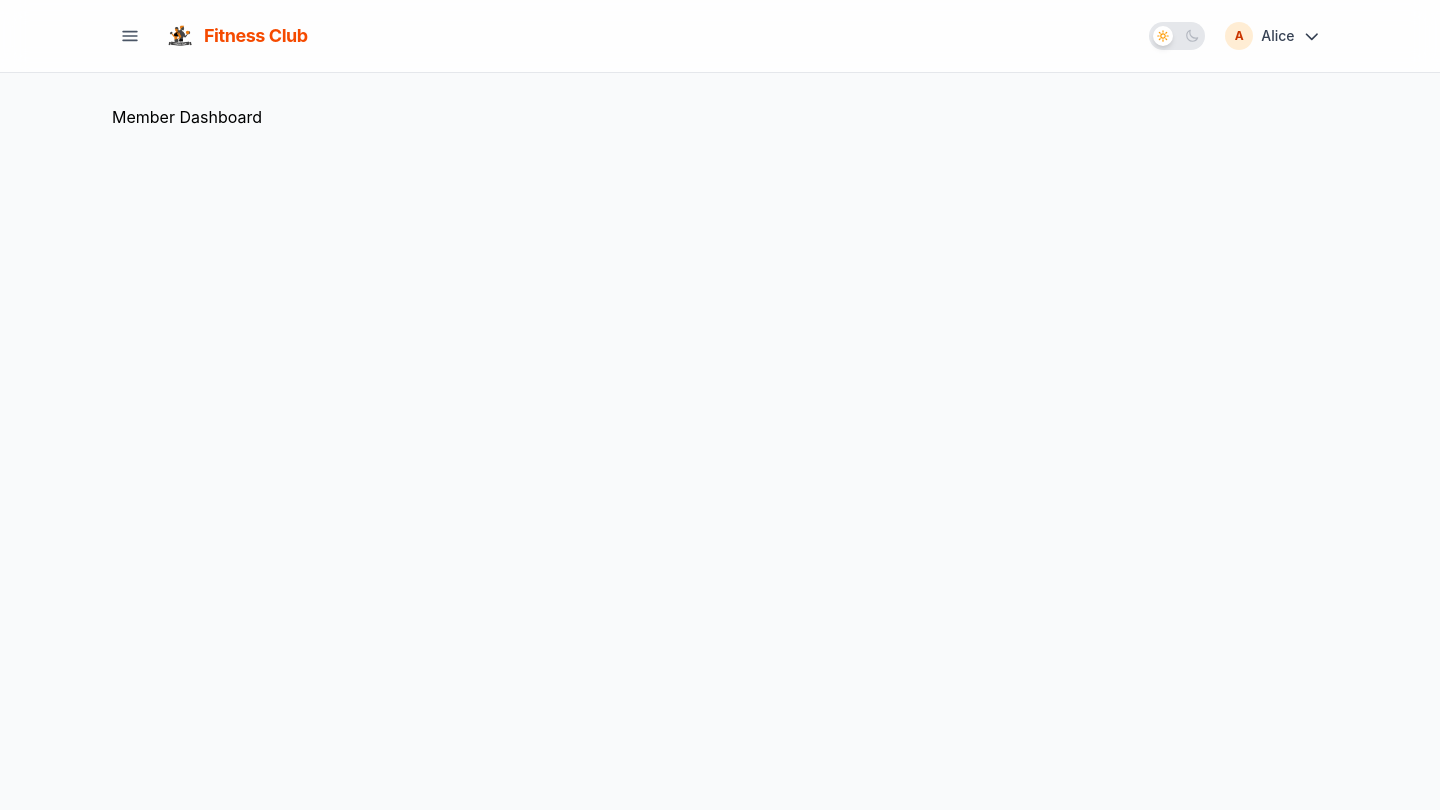
Test case: Layout › sidebar mode › displays role badge in sidebar
This screenshot has width=1440, height=810.
What coordinates should you click on to do the following:
click the button named "Open menu"
I would click on:
 (130, 36)
Its box is [112,18,148,54].
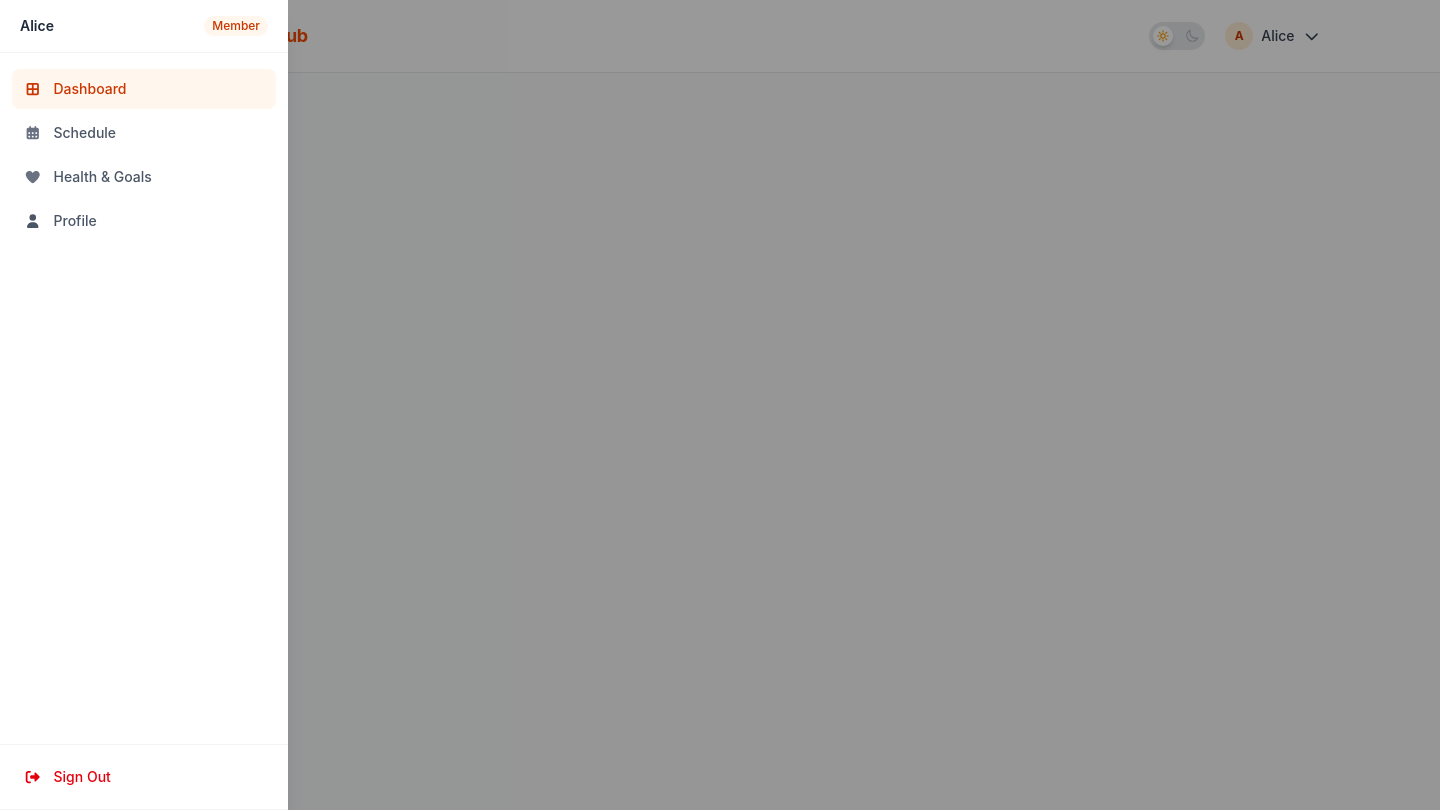
Expected: the text "member" is shown, [204,16,268,36]
